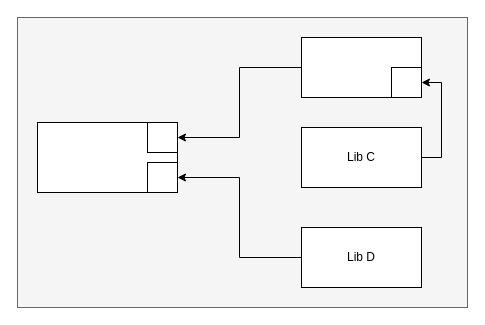
The diagram is 485 pixels wide and 325 high, and some of its shapes have lost their labels. Here are the shapes that lost their labels. From the top down, the box of each, then its label:
(300, 36, 422, 98): Lib B
(36, 122, 178, 192): Lib A
